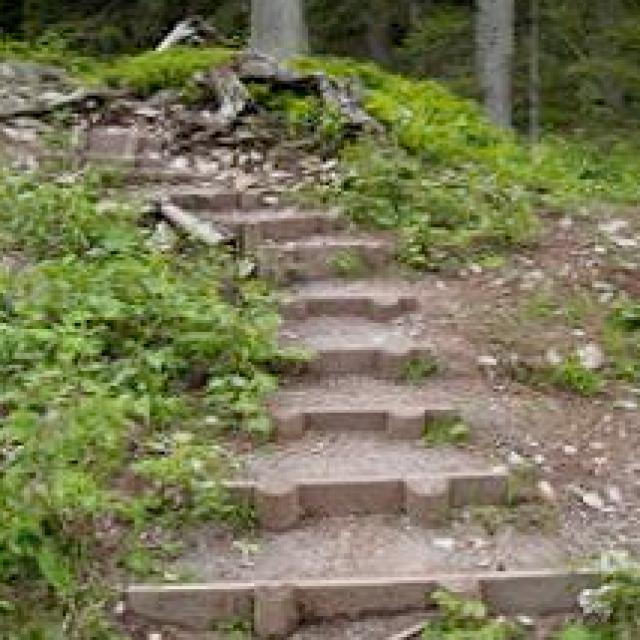upstair: (133, 282, 557, 593)
